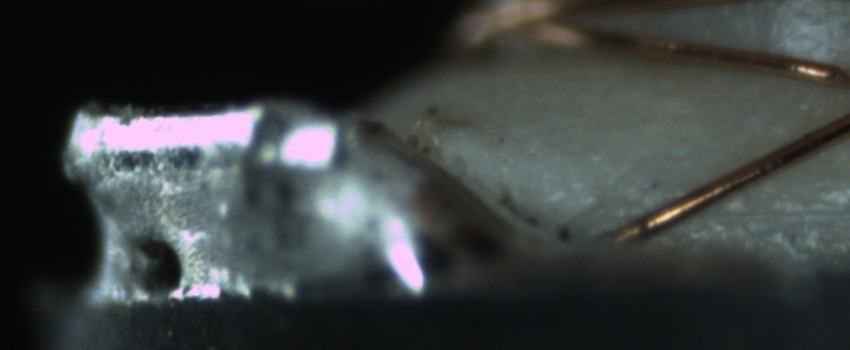DL: (696, 178, 849, 242)
